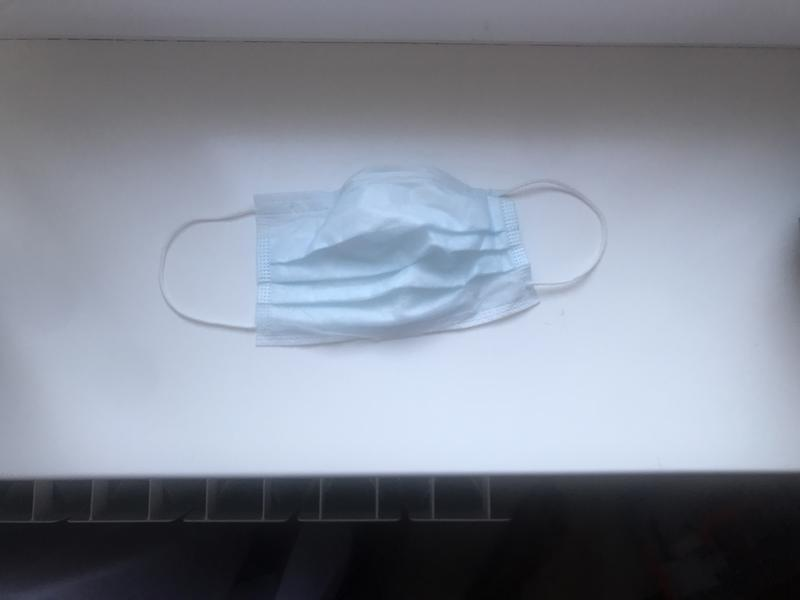medical_mask: (158, 166, 611, 343)
